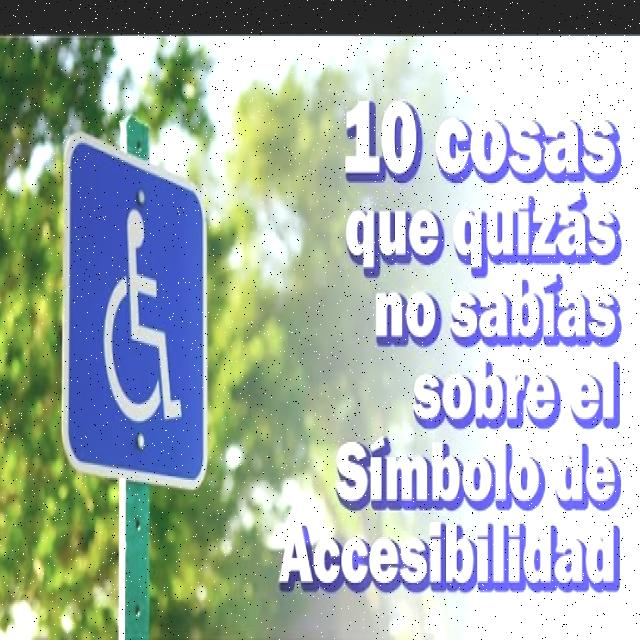symbol_of_access: (62, 128, 210, 492)
